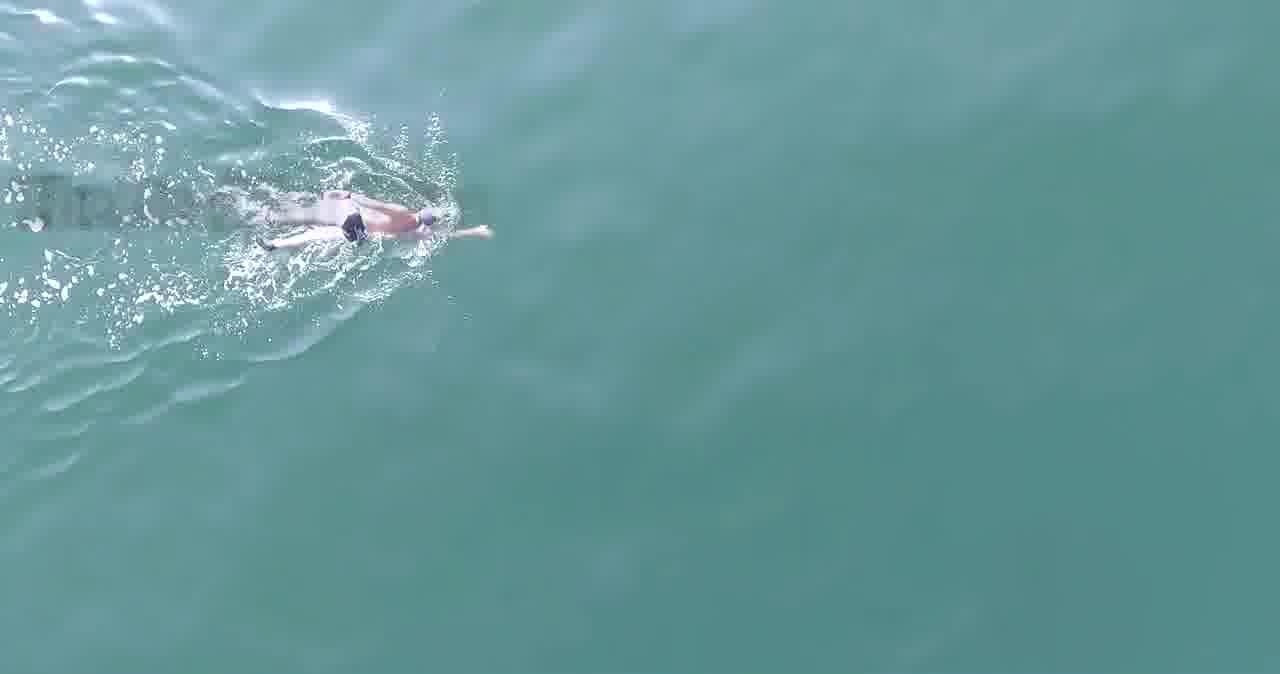swimmer: (250, 187, 495, 252)
